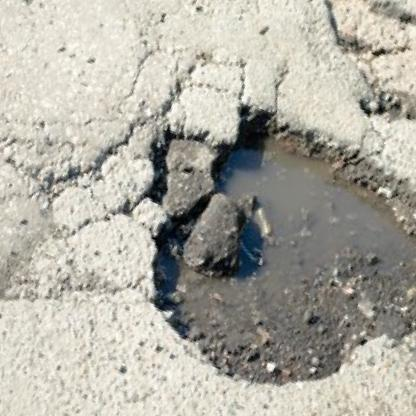pothole: (88, 69, 416, 416)
